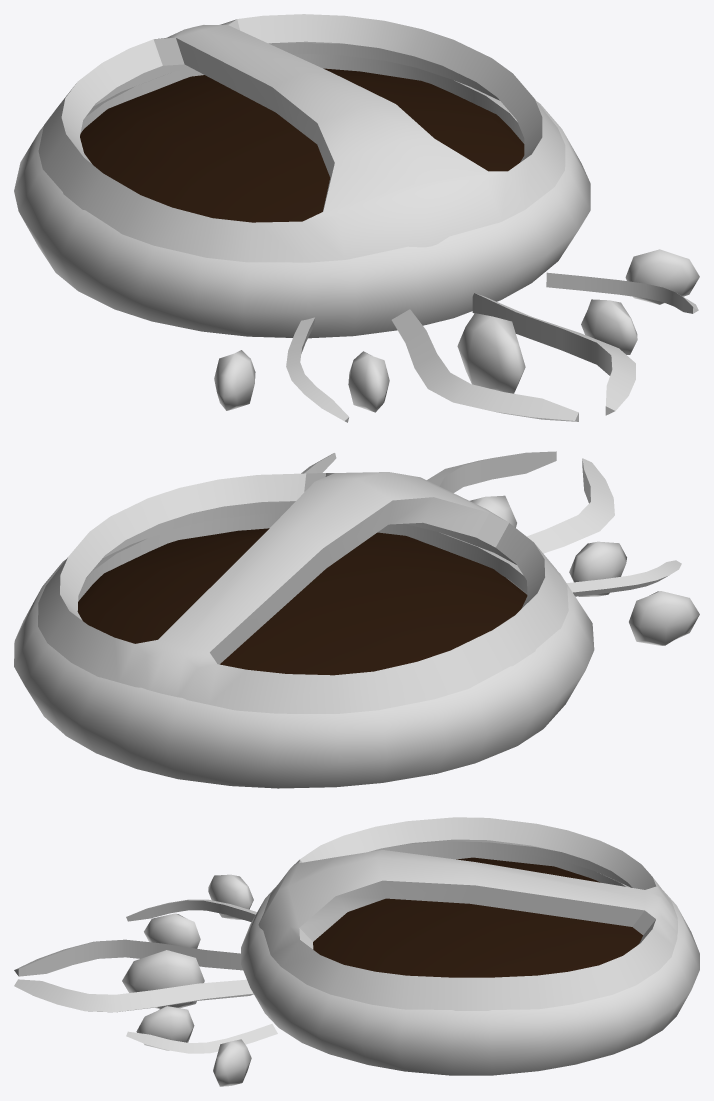
Rendered from Mask8Lp.FBX.
The picture shows the model from 3 angles, top to bottom: view 1: azimuth 30°, elevation 25°; view 2: azimuth 150°, elevation 25°; view 3: azimuth 270°, elevation 25°; orthographic projection. The views are drawn at different scales.
Visible parts, largest first — view 1: MaskMain, BGmask, Face, Jgut1, Jgut2, Diamond, Diamond3, Jgut3, Diamond2, Diamond5, Diamond4, Jgut4; view 2: MaskMain, BGmask, Face, Jgut1, Diamond5, Jgut2, Diamond4, Jgut4, Diamond; view 3: MaskMain, BGmask, Face, Jgut2, Jgut1, Diamond, Jgut3, Diamond2, Diamond4, Jgut4, Diamond3, Diamond5.
Part boxes in pixels (x1,y1,x2,y2): MaskMain: (38, 14, 565, 262); BGmask: (14, 43, 590, 338); Face: (80, 68, 524, 222); Jgut1: (391, 309, 578, 421); Jgut2: (472, 293, 635, 415); Diamond: (457, 313, 525, 393); Diamond3: (625, 249, 699, 304); Jgut3: (546, 272, 698, 313); Diamond2: (581, 299, 637, 354); Diamond5: (214, 350, 255, 410); Diamond4: (348, 351, 389, 412); Jgut4: (286, 317, 349, 422); MaskMain: (38, 472, 568, 713); BGmask: (14, 502, 594, 788); Face: (77, 528, 527, 675); Jgut1: (527, 458, 614, 553); Diamond5: (629, 591, 699, 645); Jgut2: (427, 451, 556, 492); Diamond4: (569, 541, 626, 596); Jgut4: (566, 560, 681, 596); Diamond: (470, 495, 516, 527); MaskMain: (258, 817, 677, 1010); BGmask: (241, 841, 699, 1075); Face: (313, 857, 642, 977); Jgut2: (14, 979, 253, 1012); Jgut1: (14, 939, 242, 976); Diamond: (122, 950, 204, 1009); Jgut3: (126, 1024, 277, 1053); Diamond2: (136, 1006, 194, 1050); Diamond4: (144, 913, 200, 948); Jgut4: (126, 899, 256, 922); Diamond3: (213, 1039, 251, 1086); Diamond5: (208, 874, 253, 919).
Size of the model in its own units: 85.78 by 31.61 by 128.
